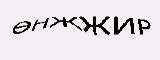Ж: (79, 10, 109, 37), (51, 11, 83, 32)
И: (114, 13, 136, 38)
Н: (31, 12, 49, 32)
Р: (135, 14, 149, 38)
Ө: (11, 16, 33, 34)
